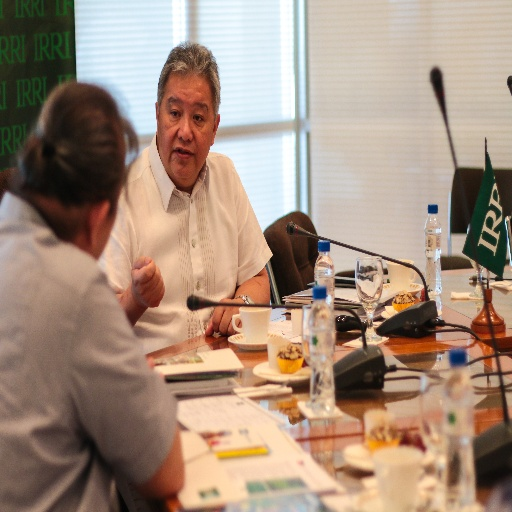hand: (122, 251, 165, 308), (205, 295, 246, 338), (146, 357, 165, 379)
